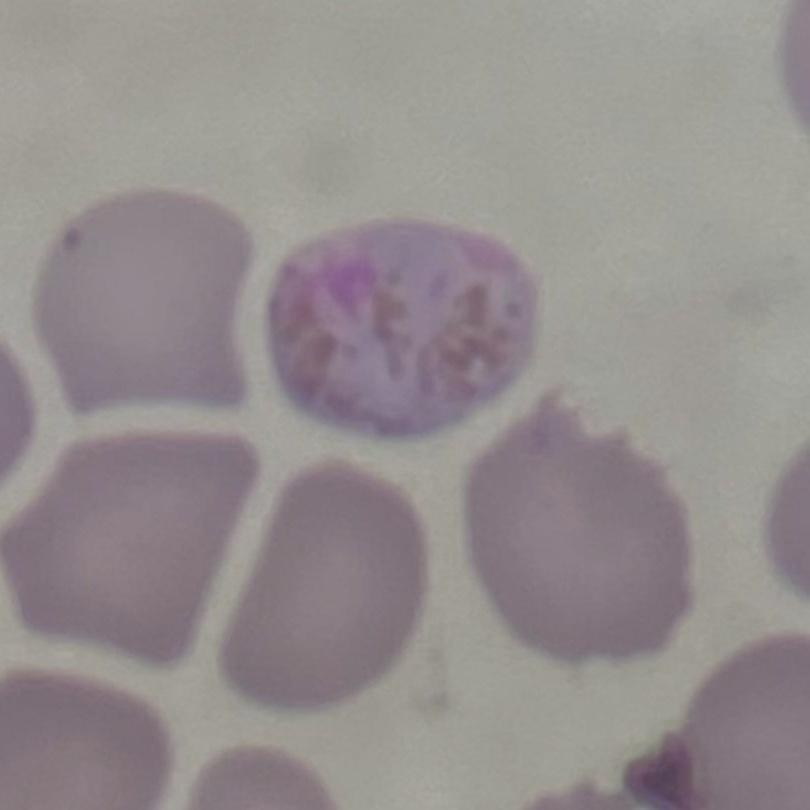Infected: (264, 217, 548, 440)
Uninfected: (464, 403, 704, 655), (14, 435, 260, 658), (32, 185, 252, 422), (222, 459, 425, 711)
